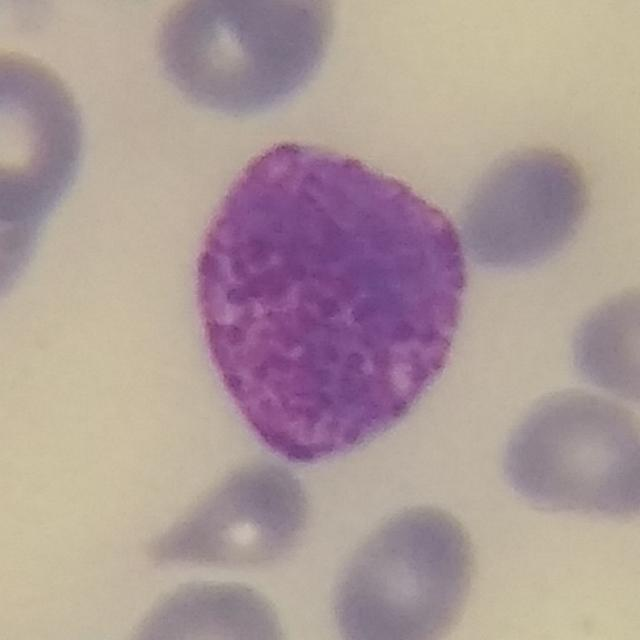baso: (192, 134, 470, 467)
